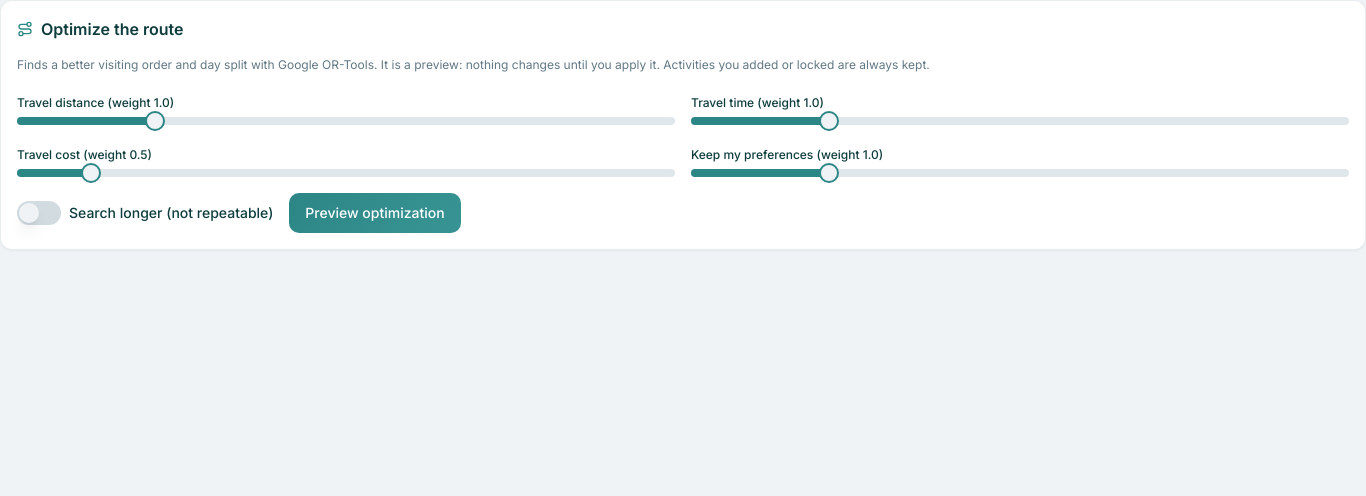
Scenario: OptimizationPanel › shows an infeasible result honestly and cannot be applied
Click the button "Preview optimization".
click(375, 213)  # box x1=289 y1=193 x2=461 y2=233
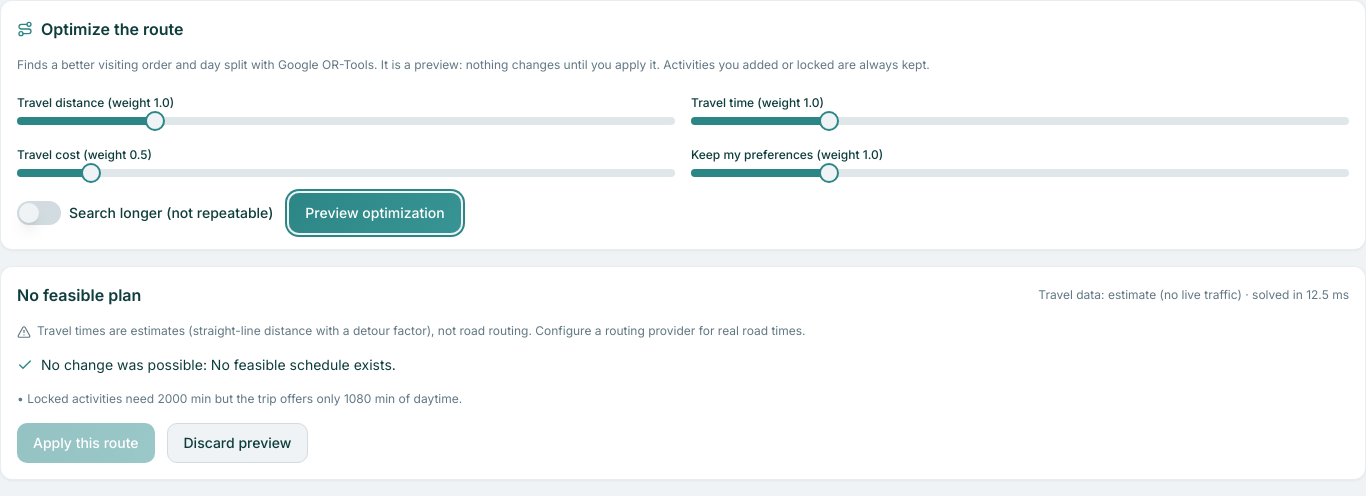
Result: the heading "No feasible plan" is shown at x1=17 y1=283 x2=141 y2=307
Result: the list item "No change was possible: No feasible schedule exists." is shown at x1=17 y1=356 x2=396 y2=373
Result: the list item "Locked activities need 2000 min" is shown at x1=27 y1=391 x2=462 y2=406
